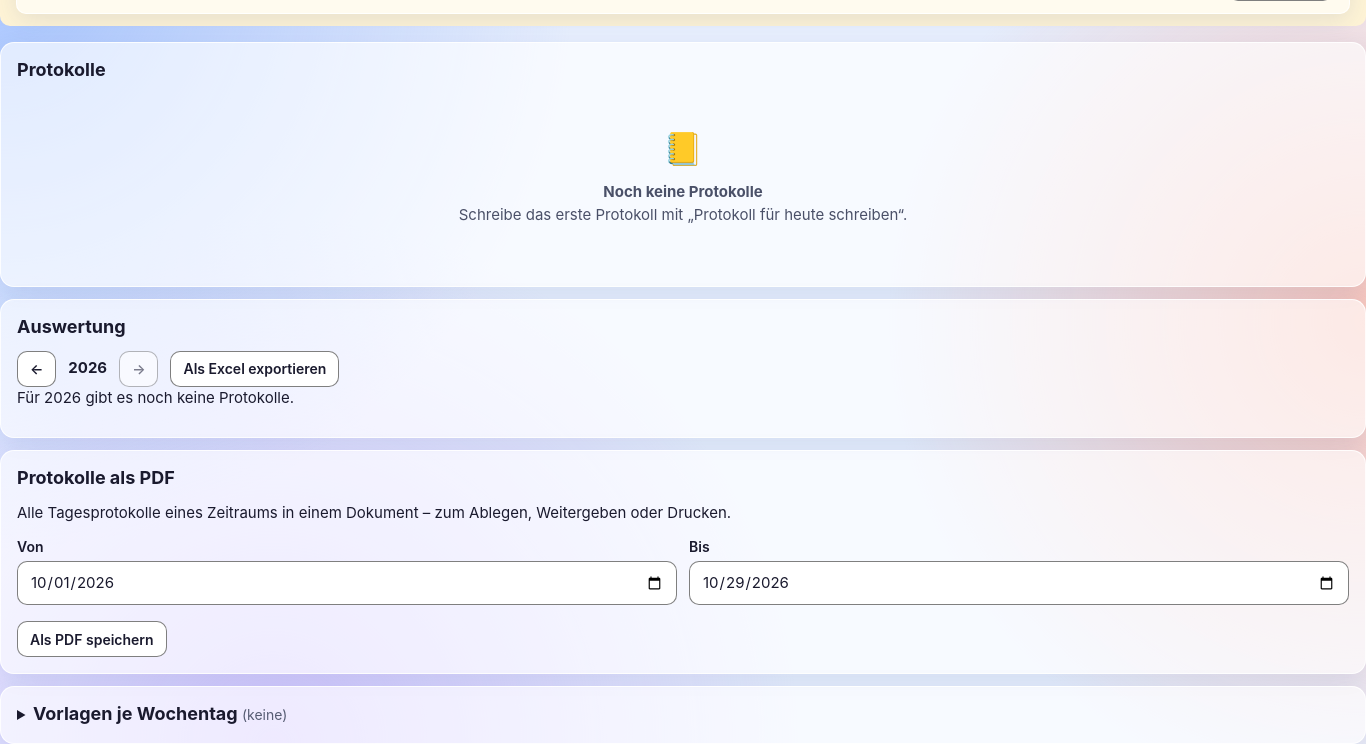
Tagesprotokoll: Sammlung als PDF › ohne Protokolle im Zeitraum: Hinweis statt leerem PDF
(page scrolled)
Step 1. Click the button "Als PDF speichern" → [92, 639], box [17,621,167,657]
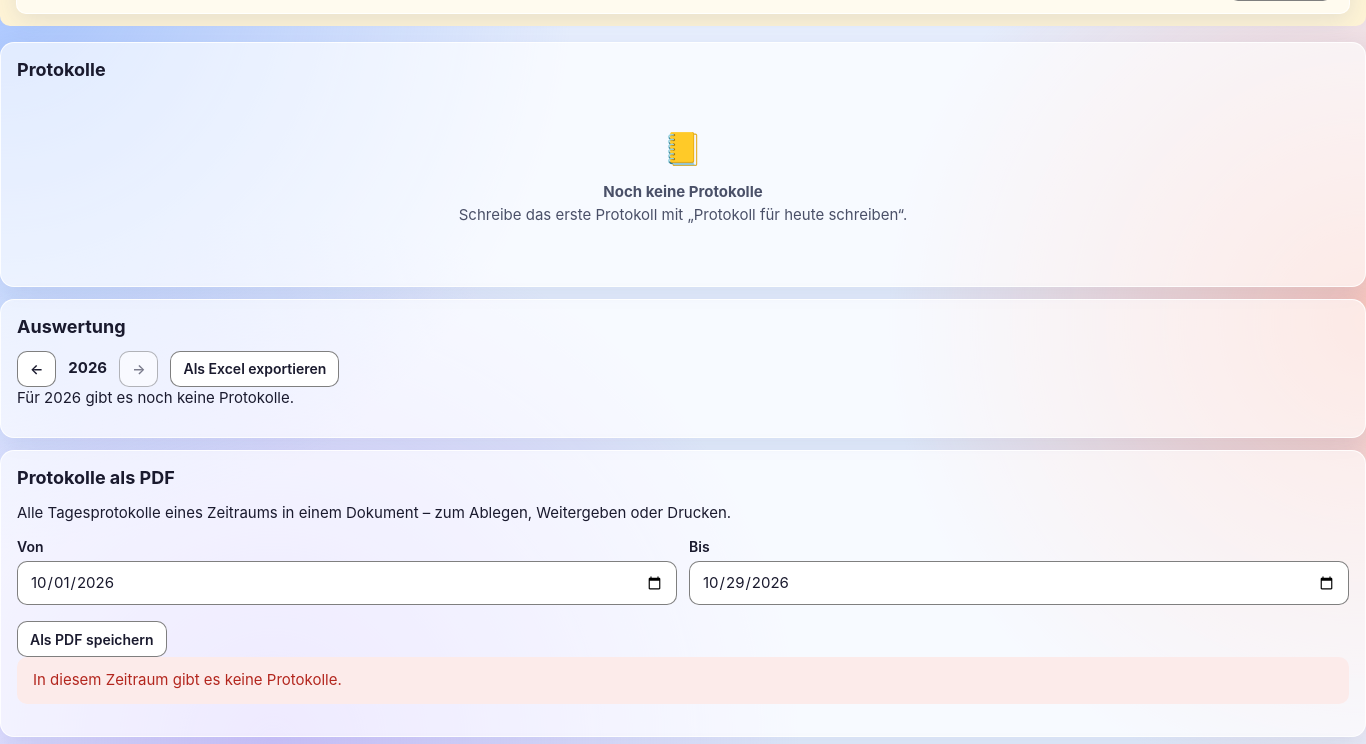
expect the text "In diesem Zeitraum gibt es keine Protokolle." is shown: met, box [17,657,1349,704]
